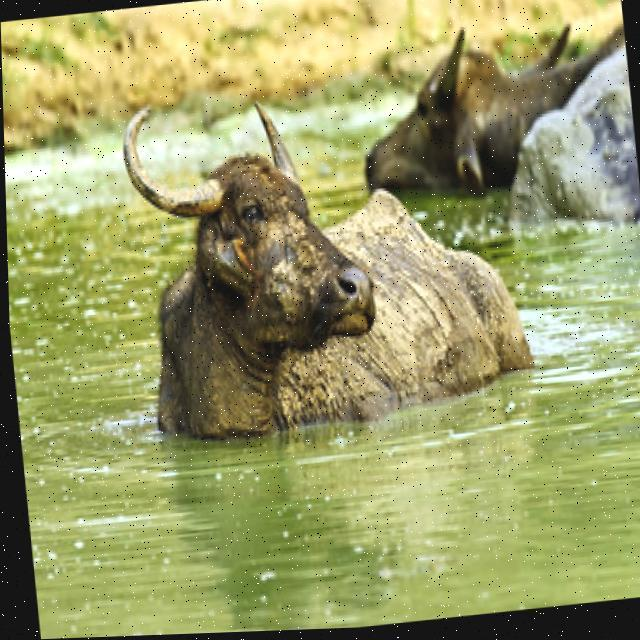Buffalo: (106, 61, 536, 448)
